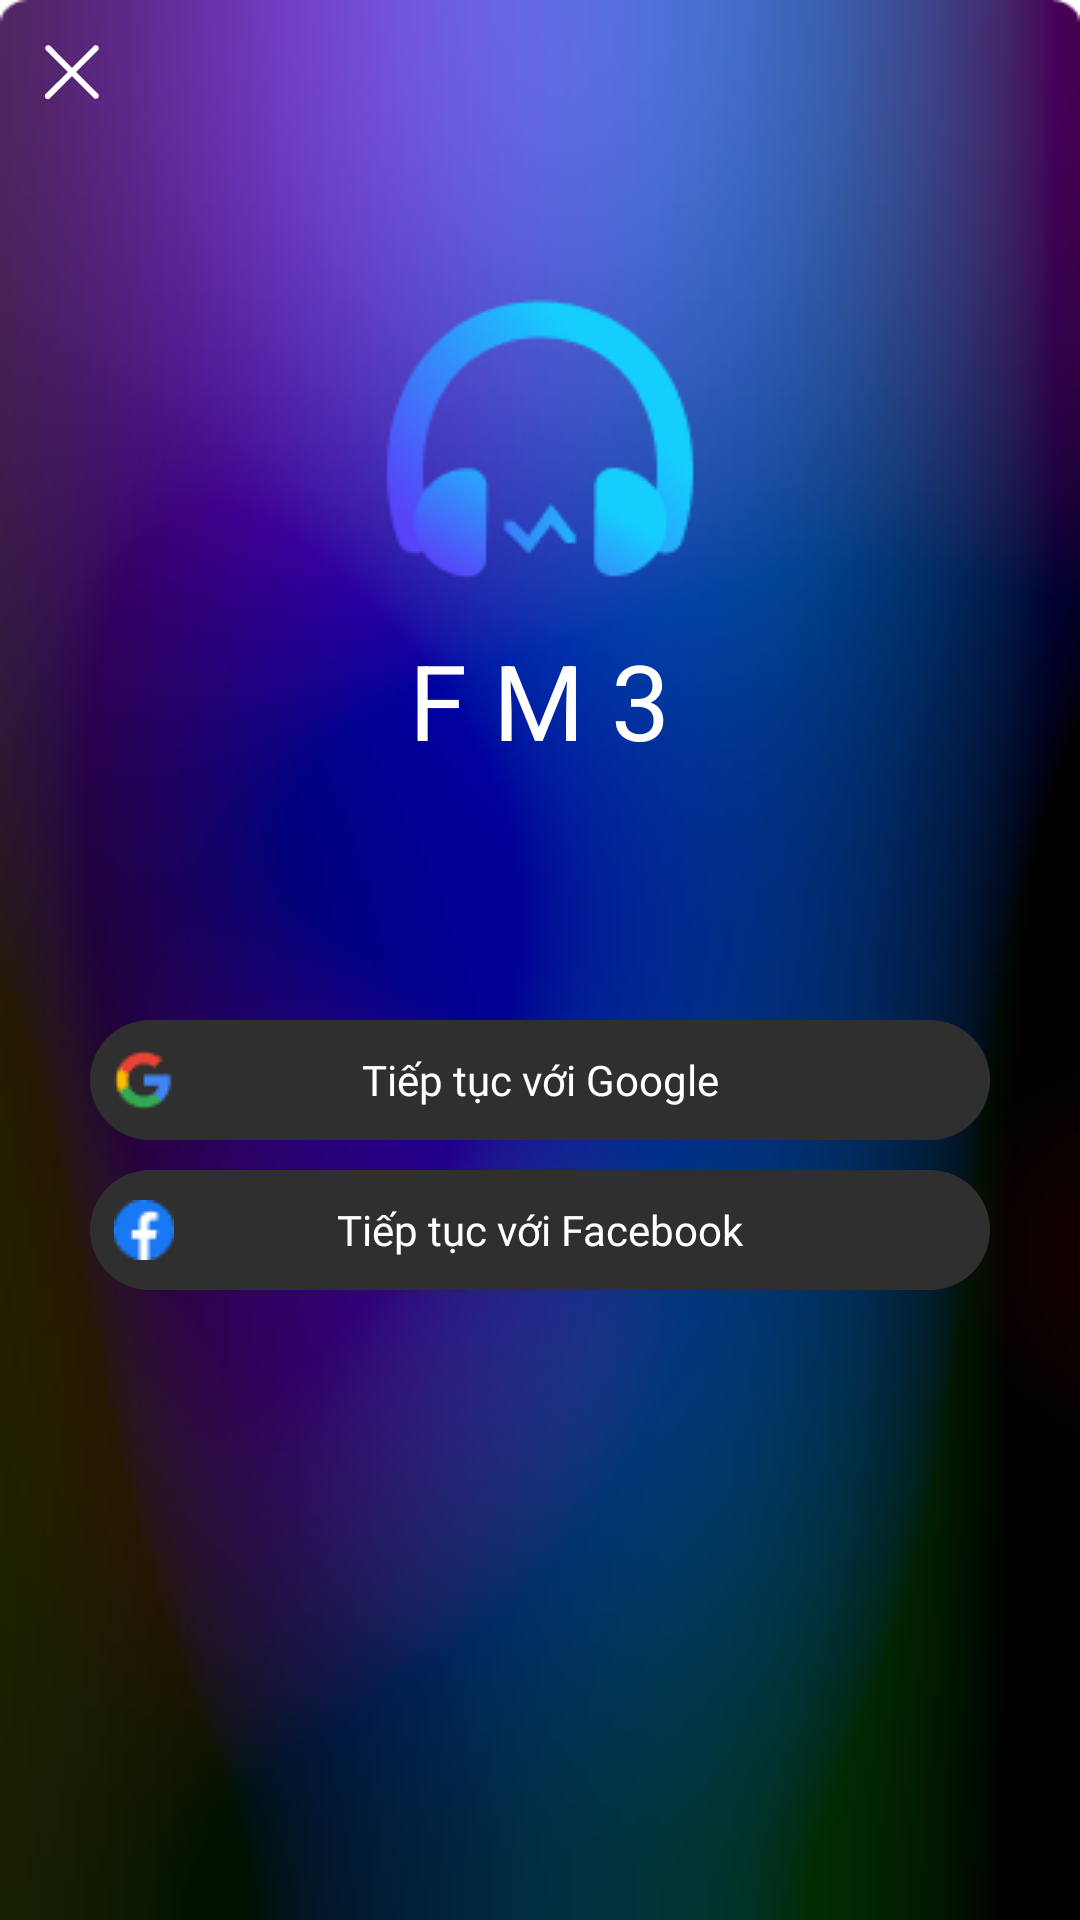

Where to tap for icons on this 1080w x 1920h app screen, as point (x, y):
close: point (72, 72)
